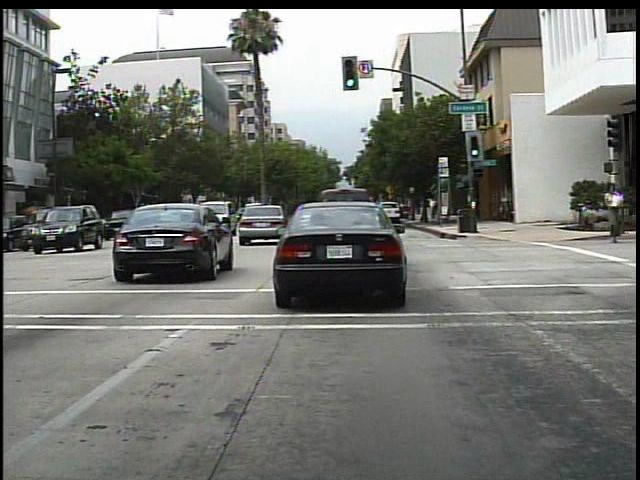person: (601, 180, 629, 249), (423, 191, 441, 223)
